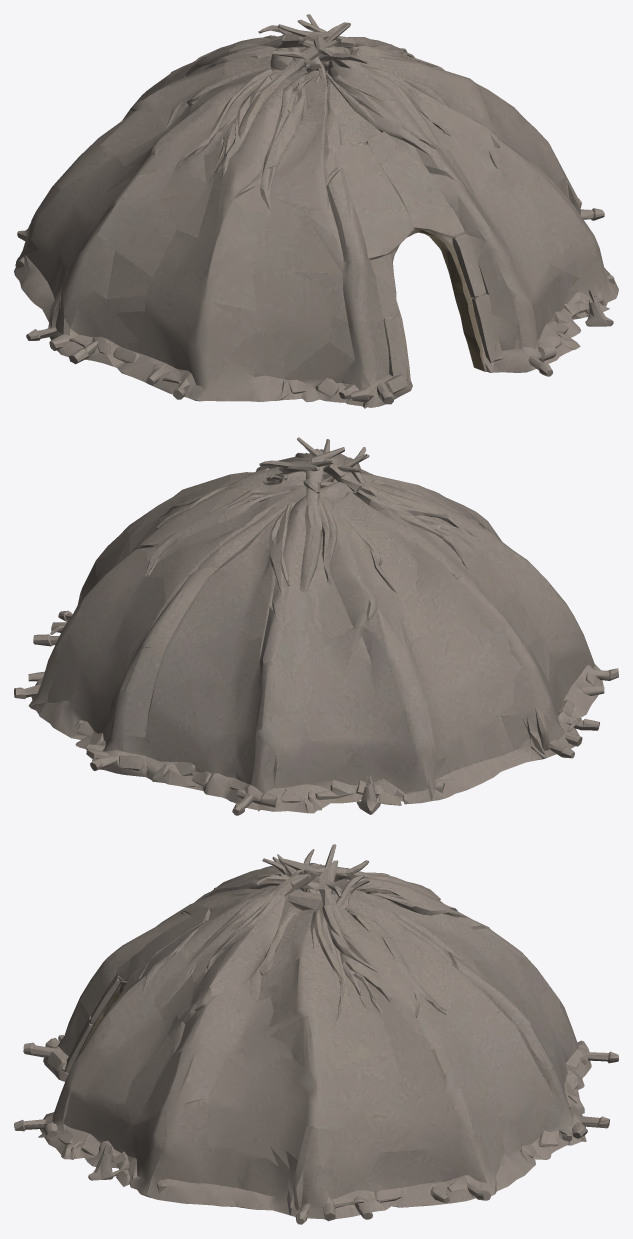
File: tent.glb
3 views of the same model, one above another, from view 1: azimuth 30°, elevation 25°; view 2: azimuth 150°, elevation 25°; view 3: azimuth 270°, elevation 25° (orthographic). The views are drawn at different scales.
Visible parts, largest first — view 1: tent-centred; view 2: tent-centred; view 3: tent-centred.
Part boxes in pixels (bbox=[...]): tent-centred: bbox=[14, 14, 618, 408]; tent-centred: bbox=[14, 437, 618, 815]; tent-centred: bbox=[14, 844, 618, 1224].
Bounding box in the file's own units: 5.5 × 2.42 × 5.46.
1 material, 1 textured.
